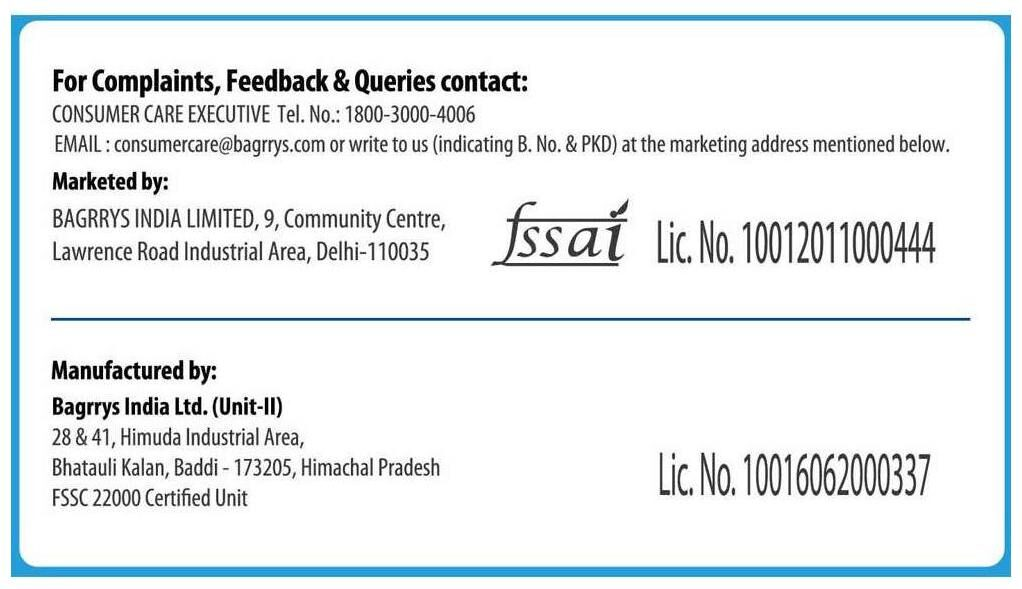fssai: (489, 199, 630, 269)
